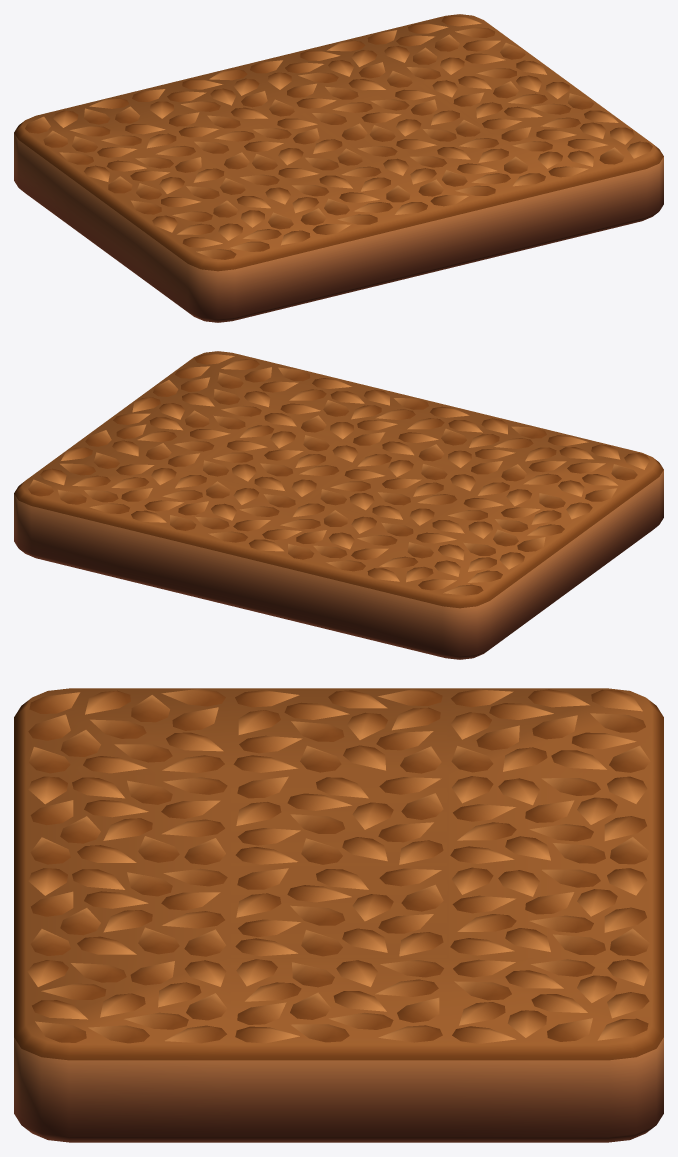
File: m_Bienenstich01.fbx
3 renders of one model, top to bottom at view 1: azimuth 30°, elevation 25°; view 2: azimuth 150°, elevation 25°; view 3: azimuth 270°, elevation 25°, orthographic. The views are drawn at different scales.
Visible parts, largest first — view 1: m_Bienenstich01; view 2: m_Bienenstich01; view 3: m_Bienenstich01.
Boxes of the visible parts, x1,y1,x2,y2 form: m_Bienenstich01: (14,14,663,322); m_Bienenstich01: (14,351,663,659); m_Bienenstich01: (14,688,663,1142).
Bounding box in the file's own units: 40 × 5.3 × 30.
